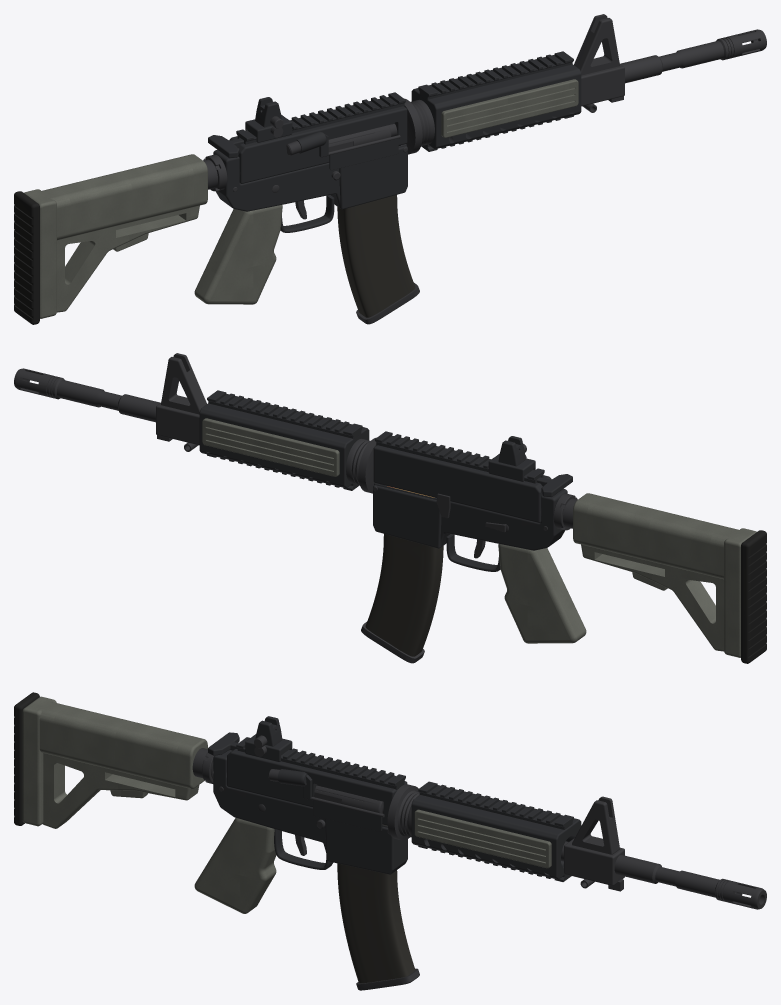
The picture shows the model from 3 angles, top to bottom: view 1: azimuth 30°, elevation 25°; view 2: azimuth 150°, elevation 25°; view 3: azimuth 330°, elevation 25°; orthographic projection.
Visible parts, largest first — view 1: coronha, pente, inferior, guarda_mao, superior, punho, capa_direita, massa_mira, soleira, cano, tampa_janela, alca_mira (+5 smaller); view 2: coronha, superior, inferior, pente, guarda_mao, punho, capa_esquerda, massa_mira, soleira, cano, alca_mira, anel (+2 smaller); view 3: coronha, pente, inferior, guarda_mao, superior, punho, capa_direita, massa_mira, cano, tampa_janela, alca_mira, soleira (+5 smaller).
Part boxes in pixels (x1,y1,x2,y2): coronha: (24, 154, 207, 318); pente: (337, 195, 419, 324); inferior: (213, 144, 407, 211); guarda_mao: (411, 51, 581, 151); superior: (229, 92, 407, 183); punho: (194, 205, 282, 304); capa_direita: (441, 79, 578, 137); massa_mira: (574, 14, 624, 112); soleira: (14, 191, 39, 324); cano: (620, 41, 723, 83); tampa_janela: (328, 135, 400, 170); alca_mira: (245, 97, 292, 142); coronha: (573, 493, 756, 657); superior: (373, 431, 551, 522); inferior: (373, 483, 567, 550); pente: (361, 485, 443, 663); guarda_mao: (199, 390, 369, 490); punho: (498, 544, 586, 643); capa_esquerda: (202, 418, 339, 476); massa_mira: (156, 353, 206, 451); soleira: (741, 530, 766, 663); cano: (57, 380, 160, 422); alca_mira: (488, 436, 535, 481); anel: (346, 437, 376, 493); coronha: (22, 696, 207, 828); pente: (337, 824, 419, 990); inferior: (213, 750, 407, 874); guarda_mao: (411, 781, 581, 881); superior: (227, 737, 407, 825); punho: (194, 818, 276, 913); capa_direita: (414, 809, 551, 868); massa_mira: (564, 796, 624, 891); cano: (561, 841, 719, 897); tampa_janela: (311, 797, 384, 831); alca_mira: (245, 716, 292, 761); soleira: (14, 692, 39, 825).
Size of the model in its own units: 841 by 267 by 58.
Materials: 8 (1 with a texture image).
